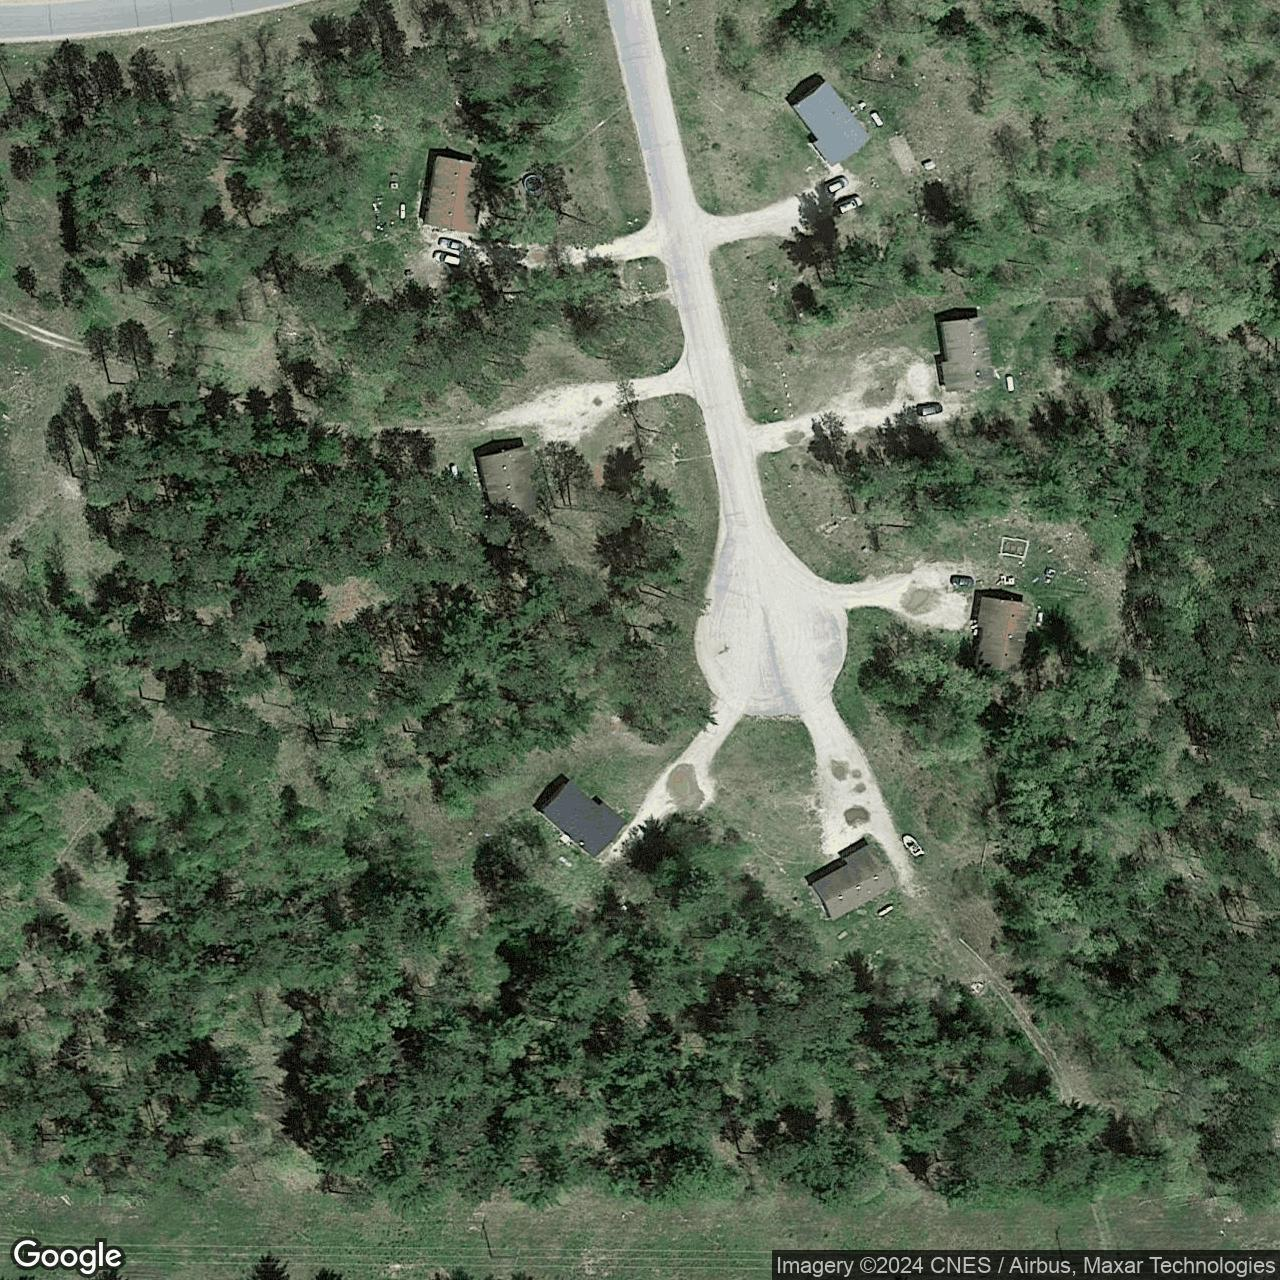House: (537, 778, 629, 860), (791, 77, 872, 168), (810, 844, 898, 922), (421, 152, 486, 234), (476, 443, 540, 523), (975, 595, 1033, 678), (939, 315, 994, 393)
Propane: (866, 108, 886, 130), (874, 901, 897, 920), (557, 853, 576, 870), (1003, 373, 1016, 395), (397, 200, 408, 222), (448, 462, 459, 479), (1036, 608, 1044, 627)
